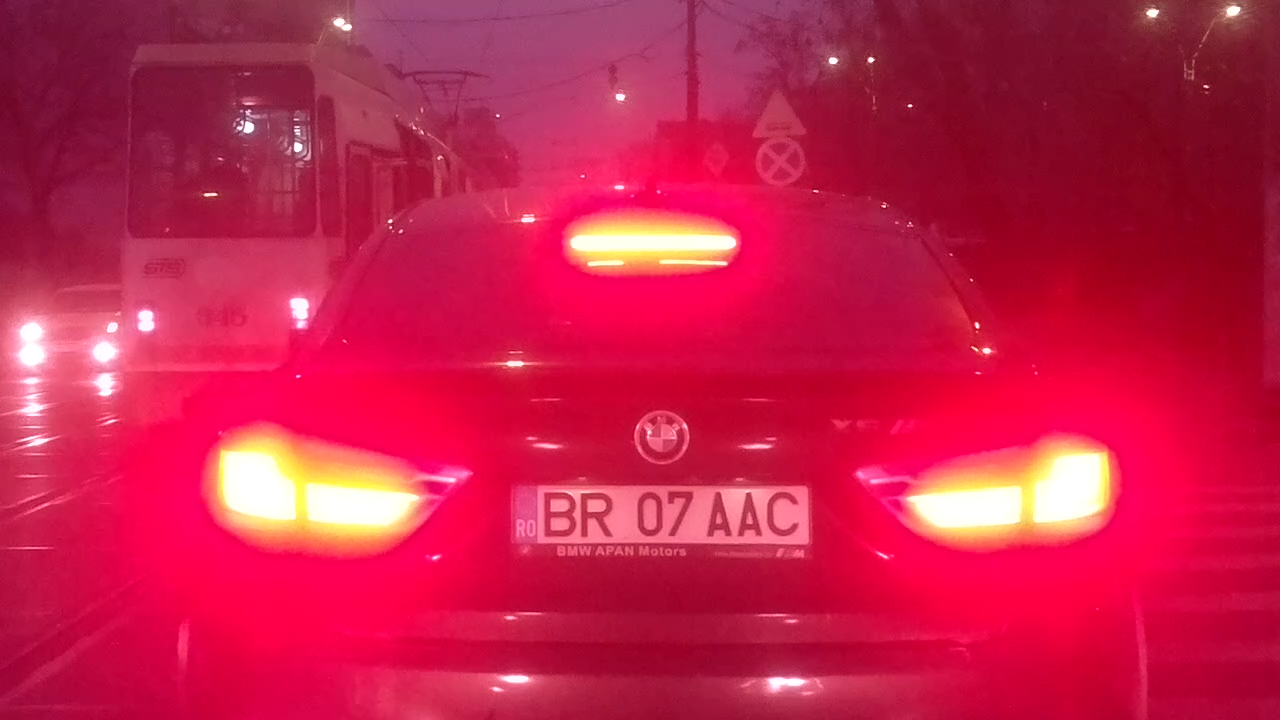license-plate: (502, 476, 819, 553)
